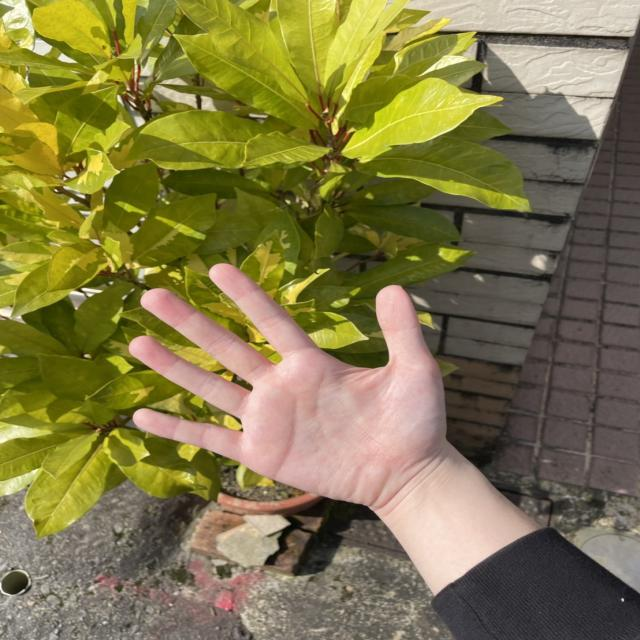no_glove: (120, 247, 454, 507)
